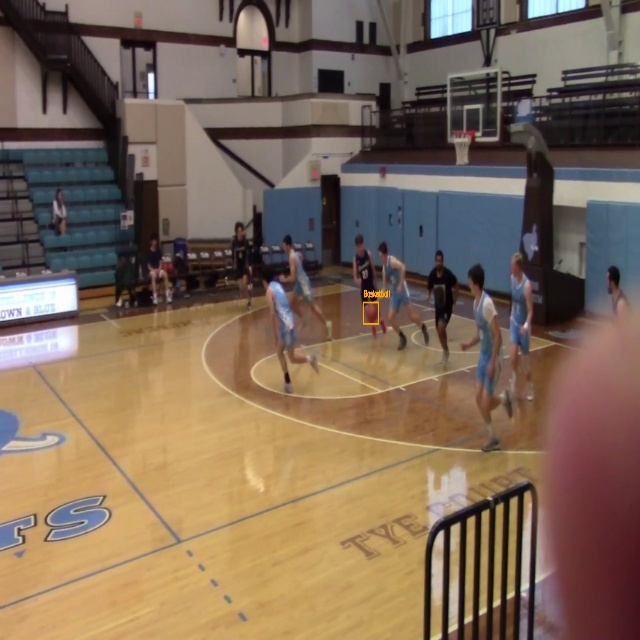Basketball: (364, 303, 379, 324)
